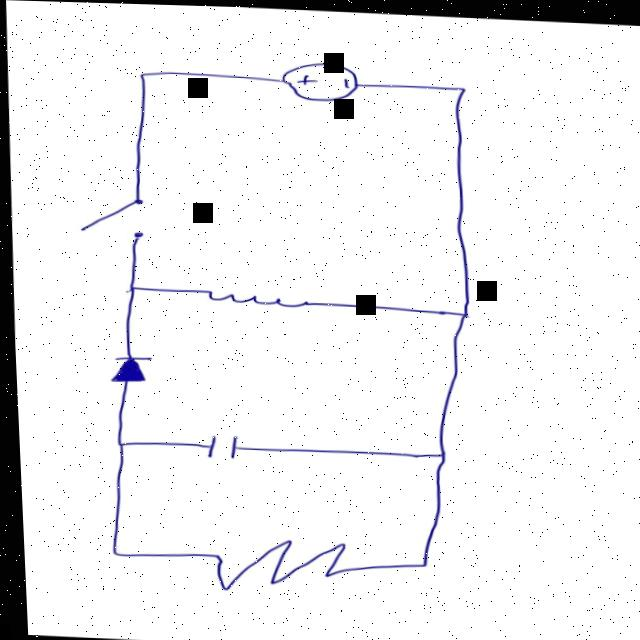capacitor: (175, 415, 262, 464)
diode: (92, 335, 163, 406)
inductor: (180, 273, 318, 320)
resistor: (181, 527, 377, 599)
source: (260, 49, 381, 108)
switch: (65, 179, 178, 253)
